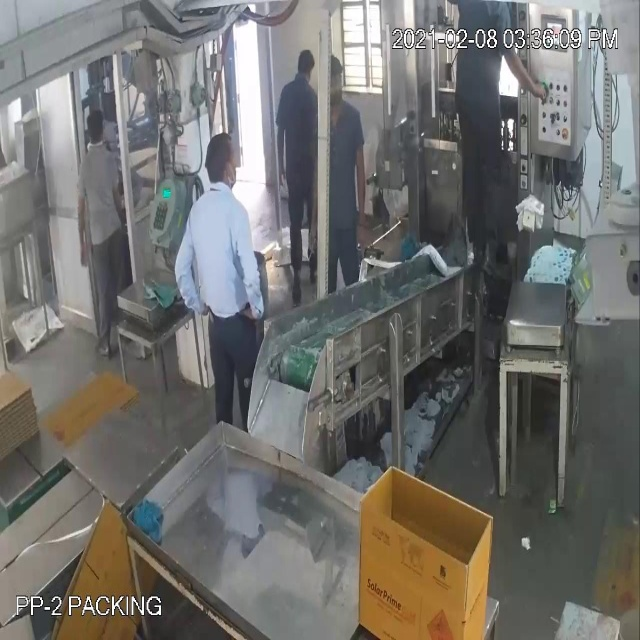Sin_guantes: (495, 20, 558, 100), (171, 201, 211, 324), (347, 122, 383, 257), (234, 219, 277, 330), (72, 180, 96, 283), (275, 107, 296, 200)
